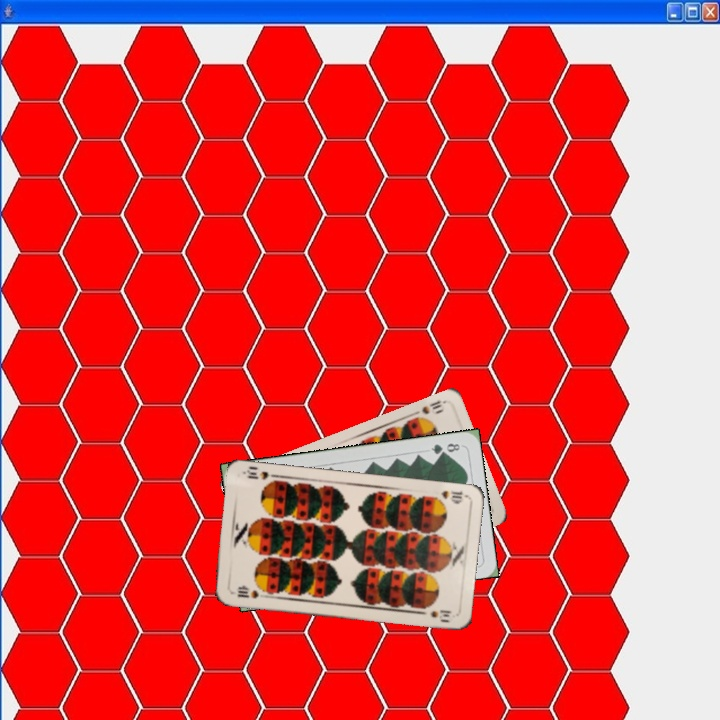G8: (427, 439, 463, 457)
S10: (409, 396, 448, 423), (233, 583, 269, 601), (437, 486, 465, 505)
